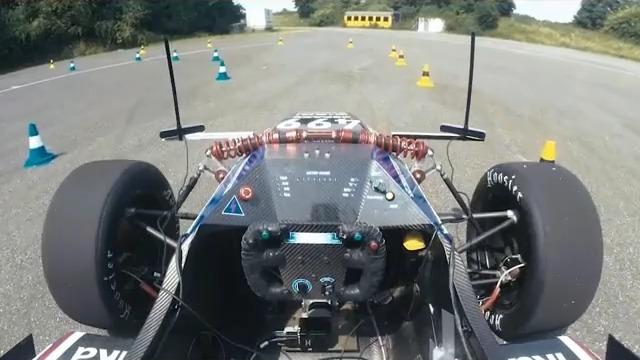blue_cone: (21, 120, 55, 168), (213, 60, 230, 81), (209, 46, 222, 63), (68, 61, 78, 73), (172, 49, 181, 62), (134, 51, 142, 62)
yellow_cone: (513, 136, 572, 255), (418, 62, 433, 90), (393, 50, 407, 70), (387, 43, 397, 58), (345, 37, 357, 49), (276, 35, 286, 45), (139, 43, 147, 55), (206, 38, 214, 49), (48, 60, 55, 70)
